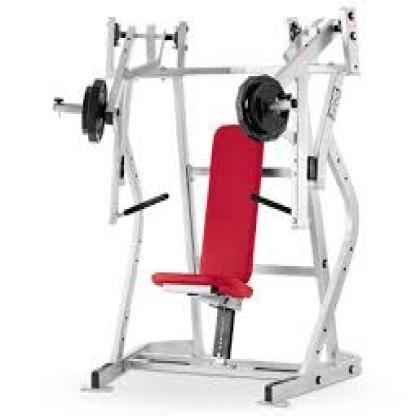Chest Press machine: (43, 2, 382, 410)
